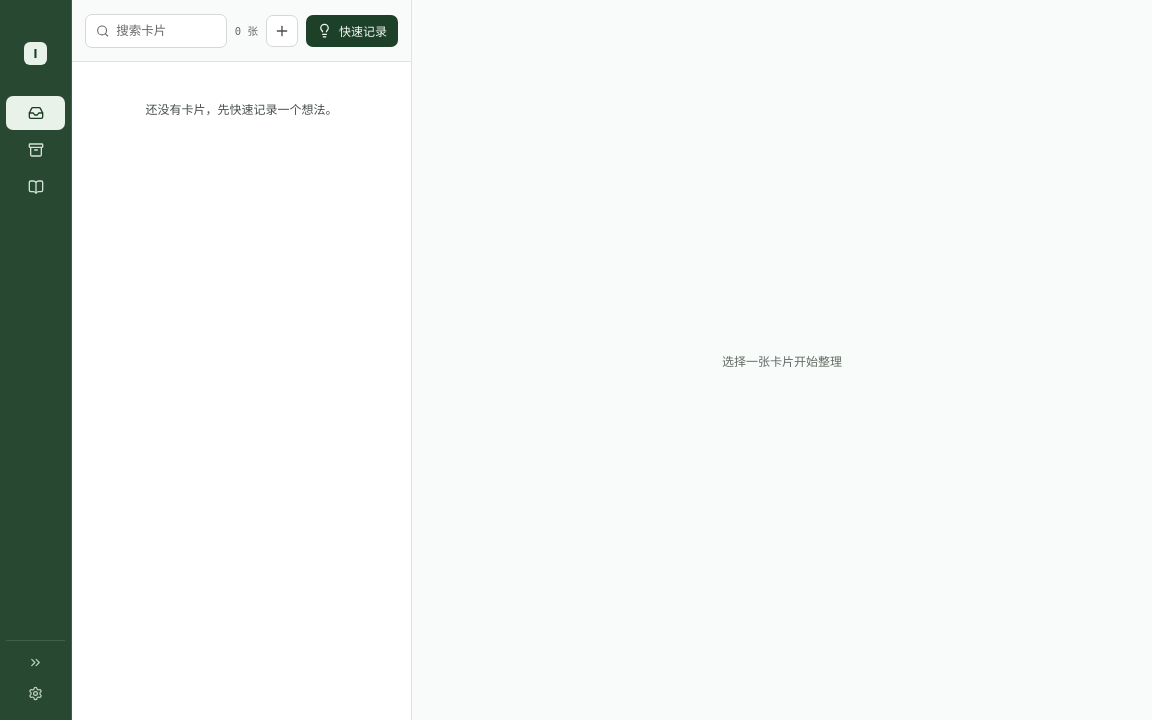
Scenario: App › deletes a concept explanation and selects the adjacent concept
The width and height of the screenshot is (1152, 720).
Click the button named "概念集合": (36, 187) [6,170,65,204]
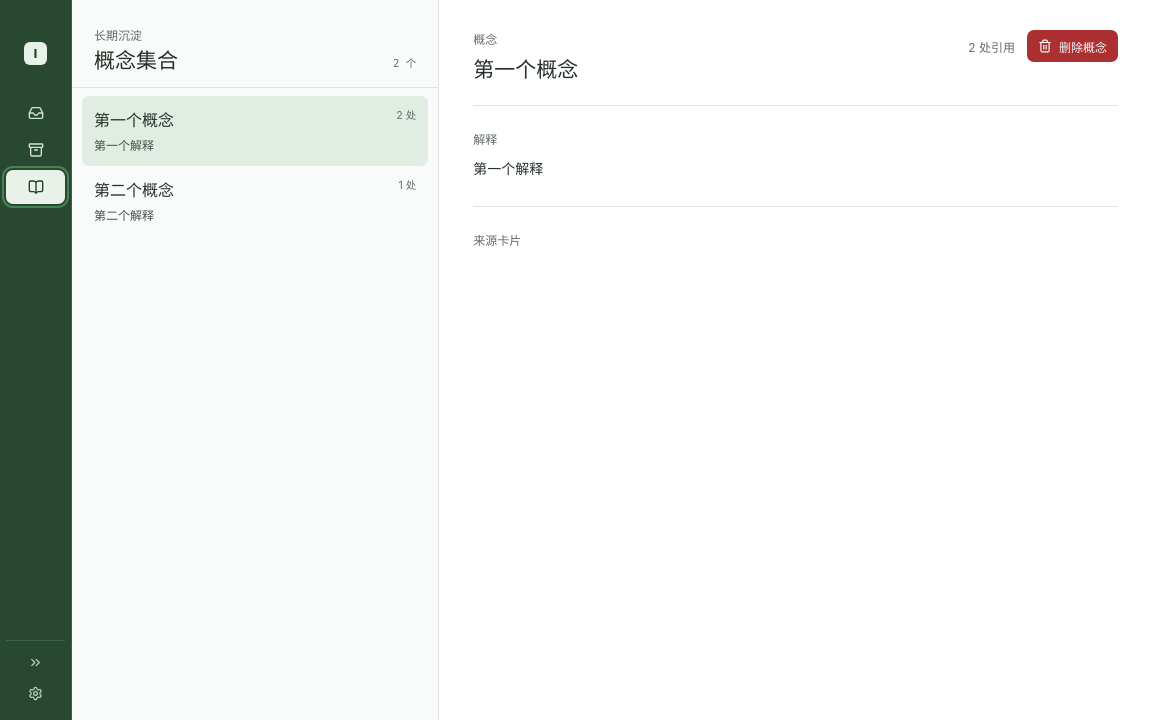
Expected: the heading "第一个概念" is shown, [473,53,578,83]
Click the button "删除概念": (1072, 46) [1027,30,1118,62]
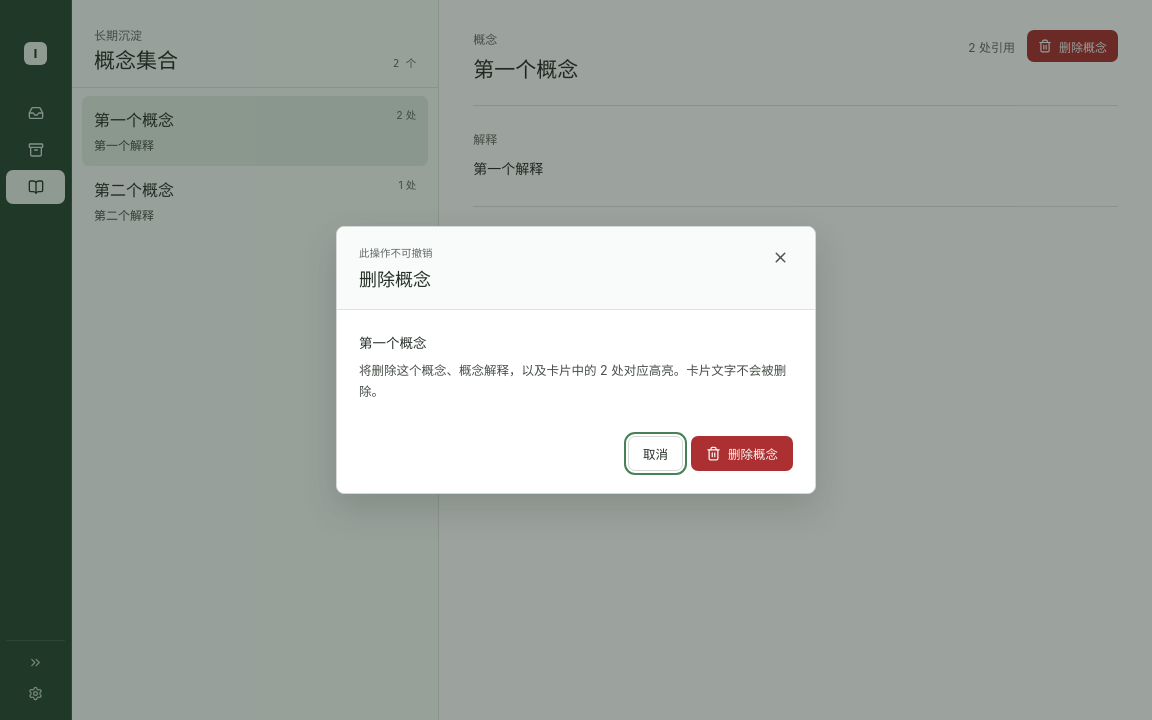
Click the button "删除概念": (742, 454) [691,436,793,471]
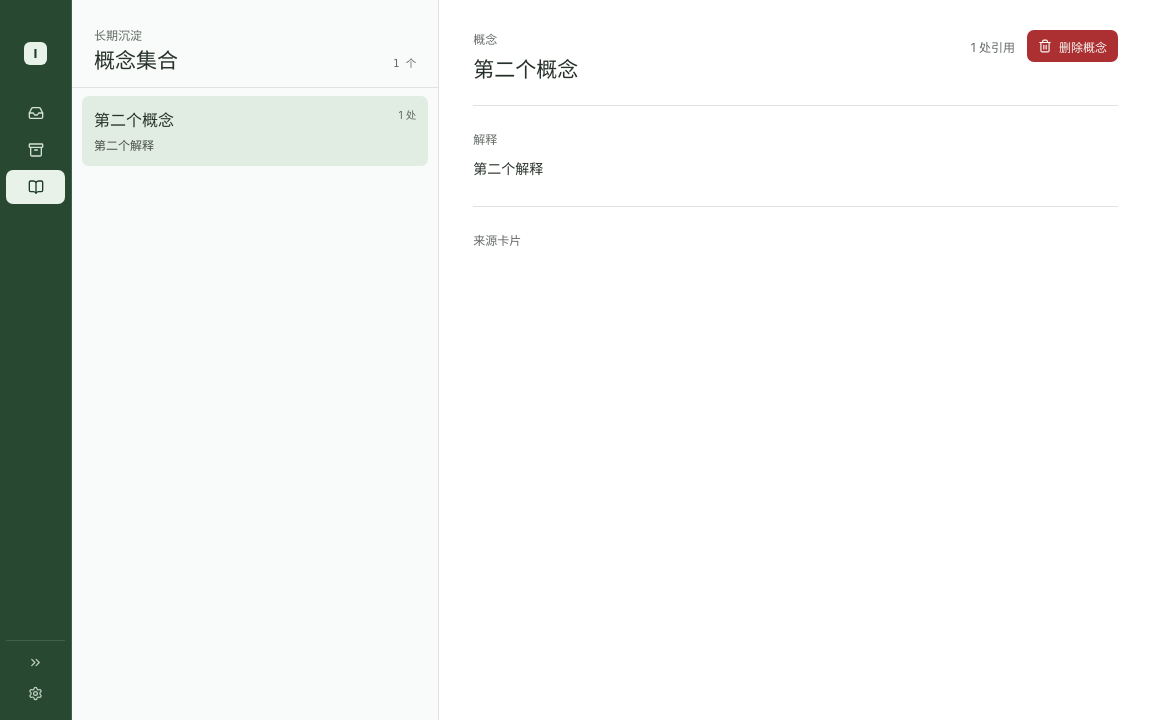
Expected: the heading "第二个概念" is shown, [473,53,578,83]
Expected: the button "第一个解释" is gone
